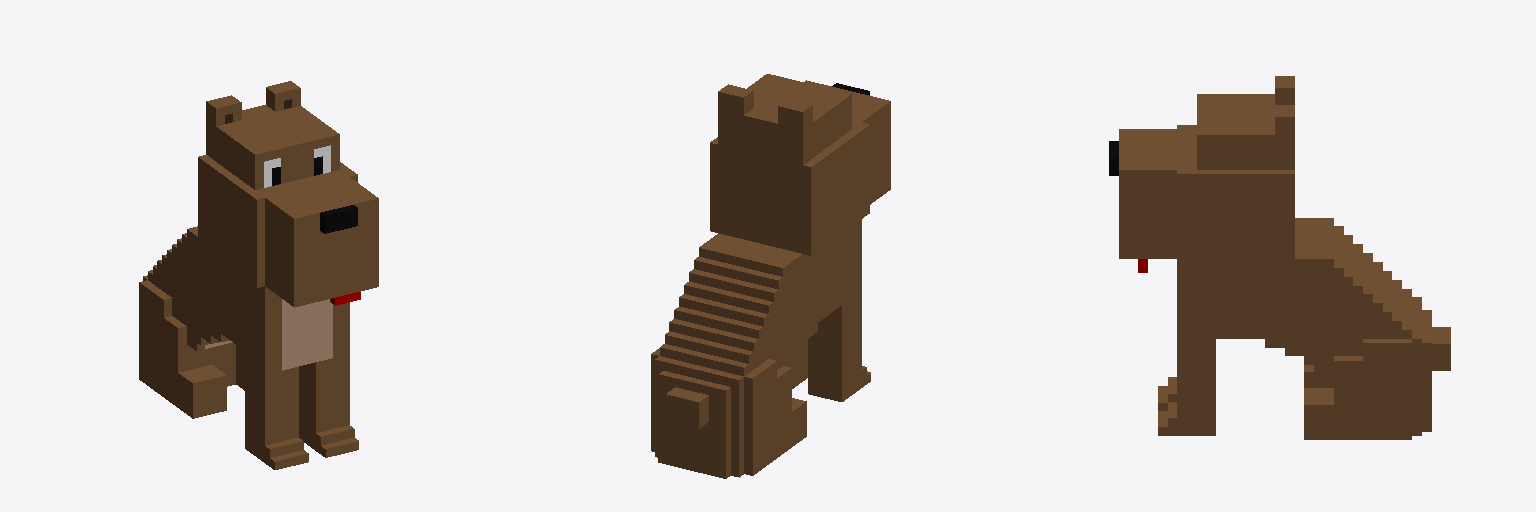
The picture shows the model from 3 angles: view 1: azimuth 30°, elevation 25°; view 2: azimuth 150°, elevation 25°; view 3: azimuth 270°, elevation 25°; orthographic projection.
Parts seen in each view (by area): view 1: Dog.001; view 2: Dog.001; view 3: Dog.001.
Part boxes in pixels (x1,y1,x2,y2): Dog.001: (139,81,378,469); Dog.001: (651,74,890,478); Dog.001: (1109,76,1450,439).
Size of the model in its own units: 1.2 by 3.6 by 3.5.
1 materials, 1 textured.